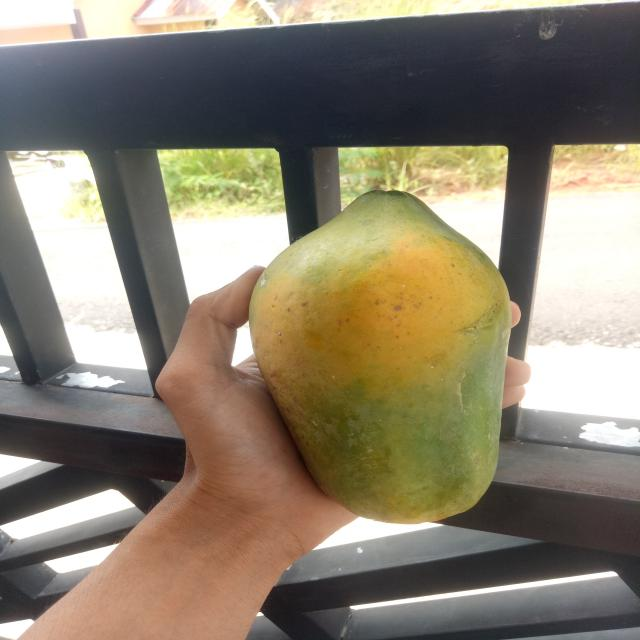Pepaya rippen: (236, 181, 518, 528)
